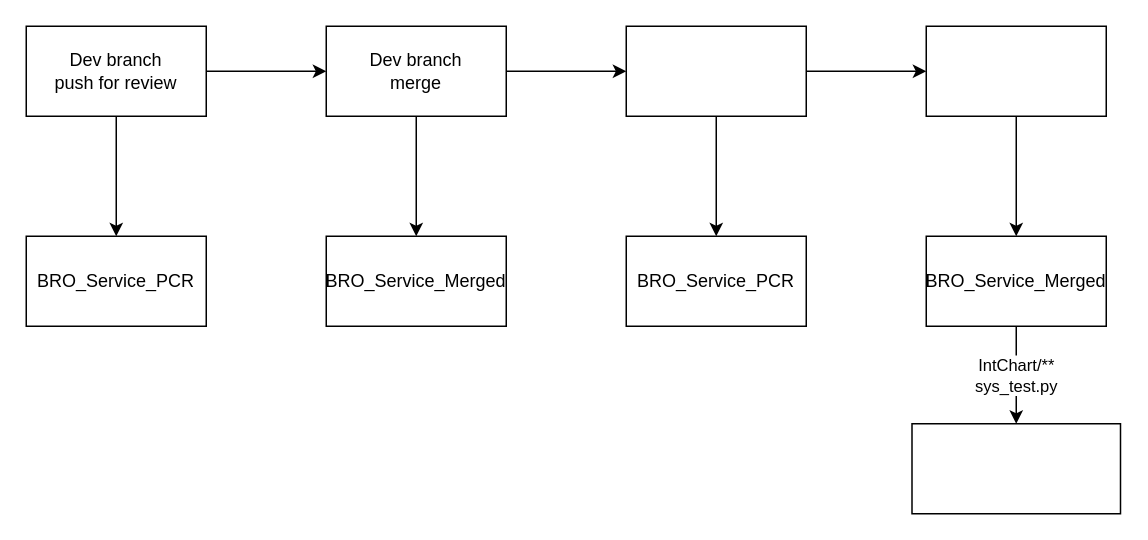
This 1148x540 diagram has some shape labels left out. Here are the shapes that lost their labels. From the top down, the box of each, then its label:
(625, 25, 806, 116): Master branch push for review
(925, 25, 1106, 116): Master branch merge
(910, 422, 1120, 514): BRO_IntChart_Release
